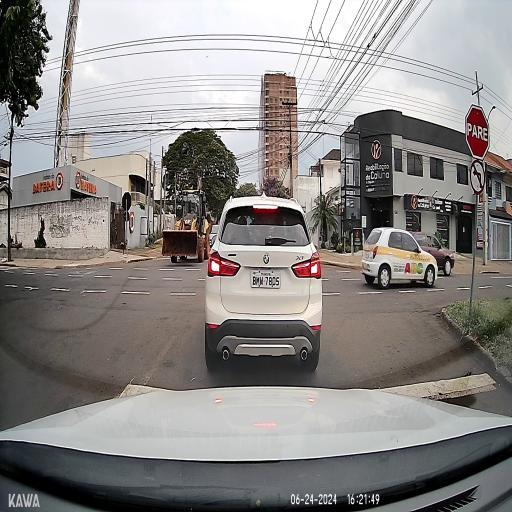R-1: (465, 104, 490, 160)
R-24a: (470, 160, 486, 195)
